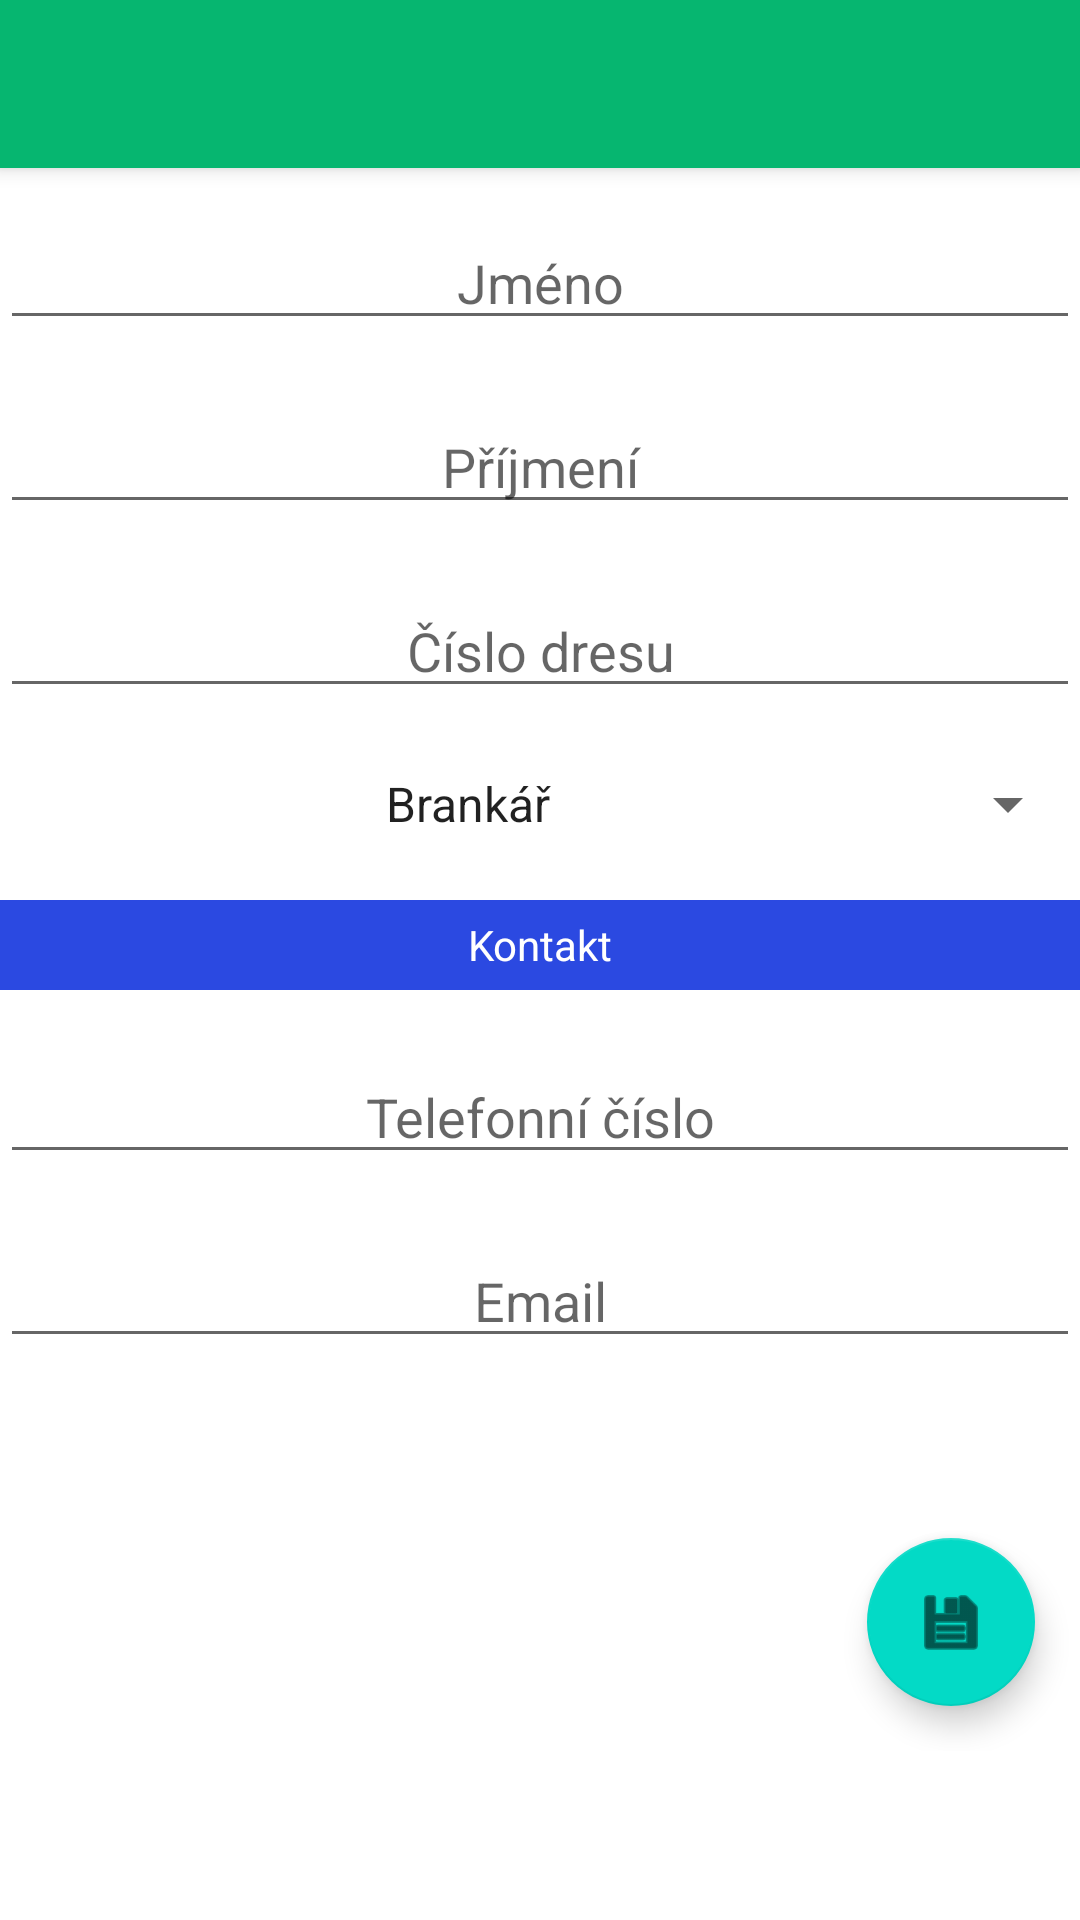

Named icons in this screenshot (1080*1920) and their bounding boxes, bbox=(x1, y1, x2, y2):
save: bbox=(867, 1538, 1035, 1706)
